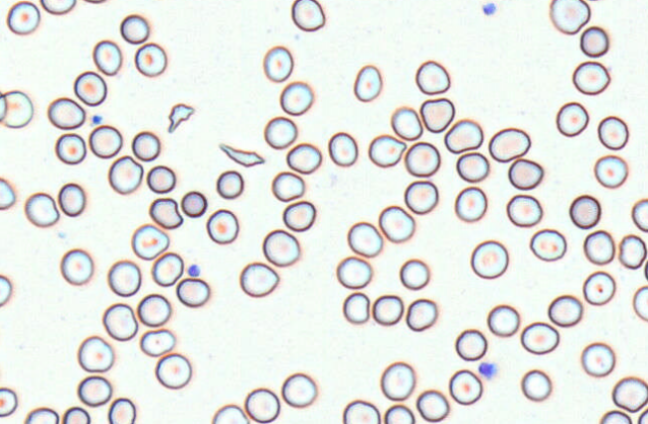PLT: (476, 361, 500, 380), (481, 2, 498, 16), (187, 263, 201, 276), (90, 114, 104, 125)
RBC: (470, 239, 508, 279), (488, 127, 530, 162), (262, 228, 300, 266), (239, 261, 279, 297), (131, 223, 169, 260), (154, 352, 192, 389), (107, 155, 143, 194), (102, 302, 138, 341), (443, 118, 483, 153), (549, 0, 590, 34), (378, 205, 415, 242), (77, 335, 114, 372), (380, 361, 415, 400), (572, 60, 610, 95), (347, 221, 383, 257), (404, 141, 440, 177), (244, 387, 280, 423), (281, 372, 317, 408), (368, 133, 406, 167), (520, 321, 559, 354), (612, 376, 647, 412), (419, 97, 454, 133), (415, 59, 450, 95), (107, 259, 141, 296), (47, 96, 85, 129), (24, 192, 59, 227), (448, 369, 482, 405), (336, 255, 372, 289), (506, 193, 542, 227), (581, 341, 615, 377), (73, 70, 107, 106), (555, 101, 589, 137), (529, 228, 566, 261), (60, 248, 93, 285), (6, 0, 40, 35), (404, 179, 438, 214), (279, 80, 313, 115), (593, 154, 628, 188), (454, 186, 487, 222), (507, 157, 543, 190), (206, 208, 239, 244), (137, 293, 171, 327), (88, 124, 122, 158), (390, 105, 423, 140), (547, 294, 582, 327), (582, 270, 615, 305), (286, 142, 322, 174), (583, 229, 615, 265), (262, 45, 293, 82), (263, 116, 297, 149), (134, 42, 167, 76), (151, 251, 183, 286), (77, 375, 112, 407), (569, 194, 601, 229), (597, 115, 629, 150), (353, 64, 382, 102), (416, 389, 449, 422), (454, 328, 487, 361), (92, 39, 122, 75), (405, 298, 437, 331), (486, 304, 519, 336), (291, 0, 325, 31), (455, 151, 489, 182), (327, 131, 357, 166), (520, 369, 552, 401), (282, 200, 315, 231), (271, 170, 304, 201), (175, 277, 209, 307), (139, 328, 175, 356), (55, 132, 86, 164), (618, 234, 646, 269), (372, 294, 403, 325), (399, 258, 429, 290), (579, 25, 609, 57), (57, 182, 85, 216), (119, 13, 149, 44), (342, 291, 370, 324), (342, 399, 380, 423), (131, 130, 160, 161), (146, 164, 175, 193), (216, 169, 244, 199), (211, 403, 249, 423), (107, 397, 136, 423), (180, 190, 207, 217), (24, 406, 59, 423), (384, 404, 414, 423), (631, 198, 647, 232), (632, 285, 647, 321), (0, 387, 17, 417), (40, 0, 76, 14), (0, 177, 15, 209), (62, 406, 90, 423), (599, 409, 632, 423), (0, 274, 12, 306), (0, 92, 6, 121), (637, 408, 647, 423), (643, 258, 648, 281), (82, 0, 108, 4)
Schistocyte: (147, 197, 184, 229), (219, 143, 265, 167), (167, 104, 197, 134)
